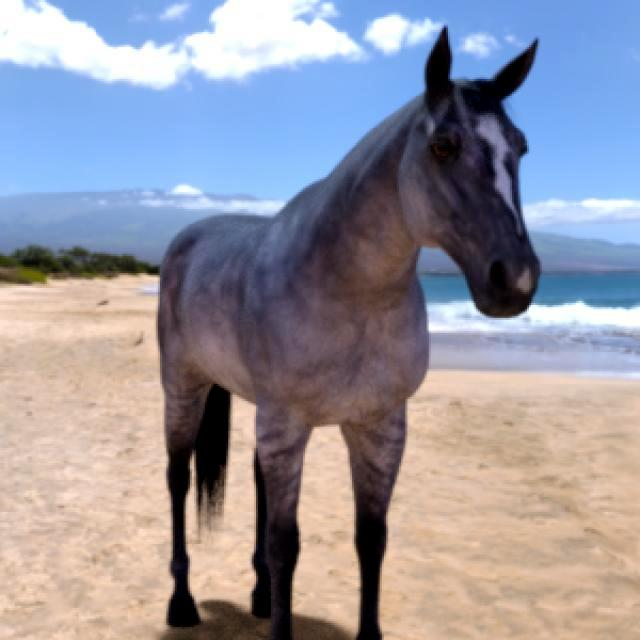horse: (158, 29, 539, 640)
